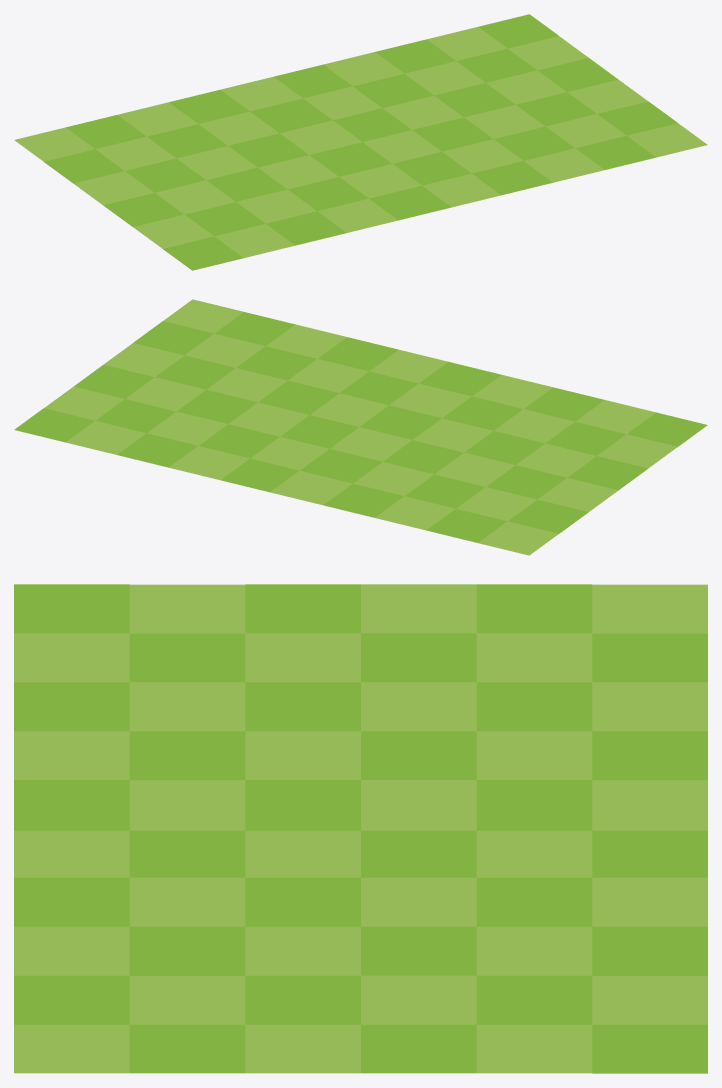
Rendered from Grass6.fbx.
3 views of the same model, one above another, from view 1: azimuth 30°, elevation 25°; view 2: azimuth 150°, elevation 25°; view 3: azimuth 270°, elevation 25° (orthographic). The views are drawn at different scales.
Visible parts, largest first — view 1: Plane.001; view 2: Plane.001; view 3: Plane.001.
Boxes of the visible parts, x1=… form: Plane.001: x1=14, y1=14, x2=707, y2=270; Plane.001: x1=14, y1=299, x2=707, y2=555; Plane.001: x1=14, y1=584, x2=707, y2=1073.
Bounding box in the file's own units: 10 × 9.78e-07 × 6.
